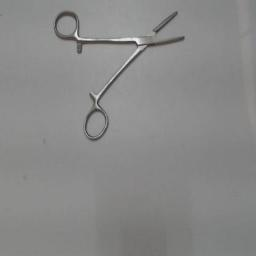Mayo Needle Holder: (51, 6, 191, 144)
